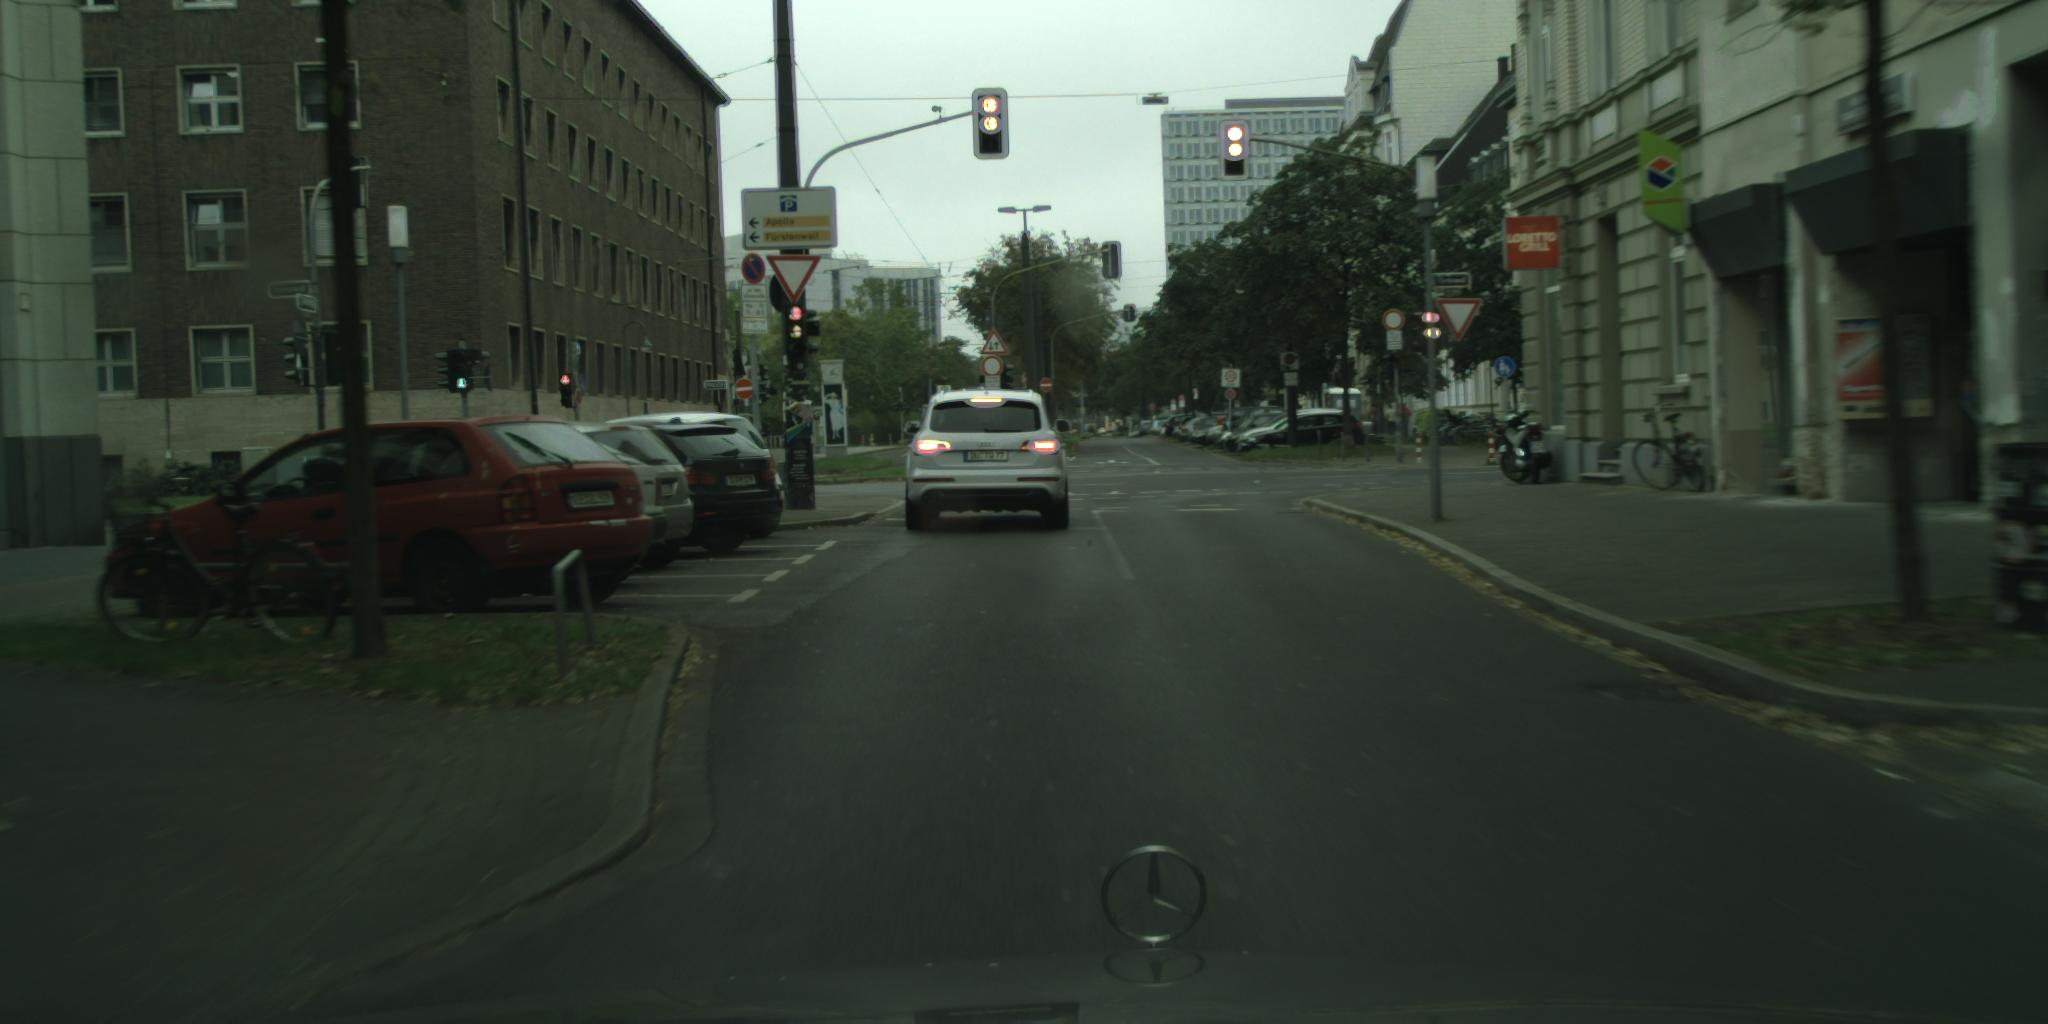bicycle: (95, 468, 347, 647), (1633, 400, 1707, 492)
car: (104, 415, 654, 622), (596, 422, 785, 555), (905, 388, 1072, 534), (551, 423, 694, 572), (603, 410, 786, 519), (1240, 414, 1368, 456), (1238, 408, 1356, 451), (1178, 411, 1226, 443)
motorcycle: (1489, 408, 1554, 488)
